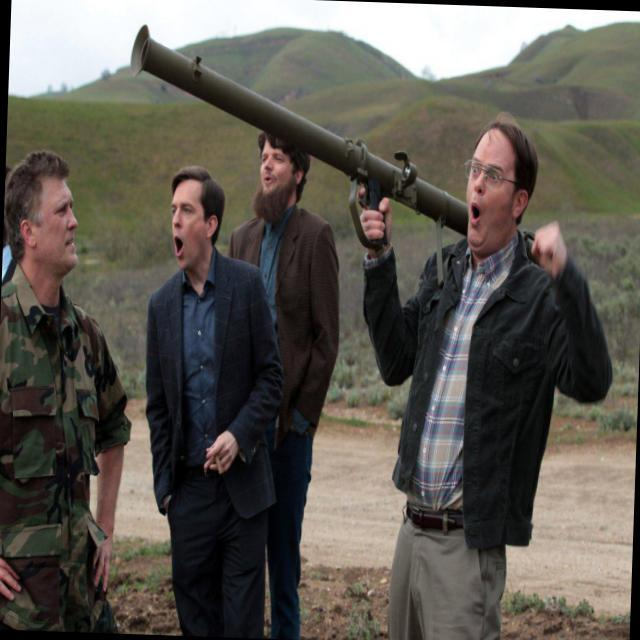rocket: (125, 19, 476, 238)
